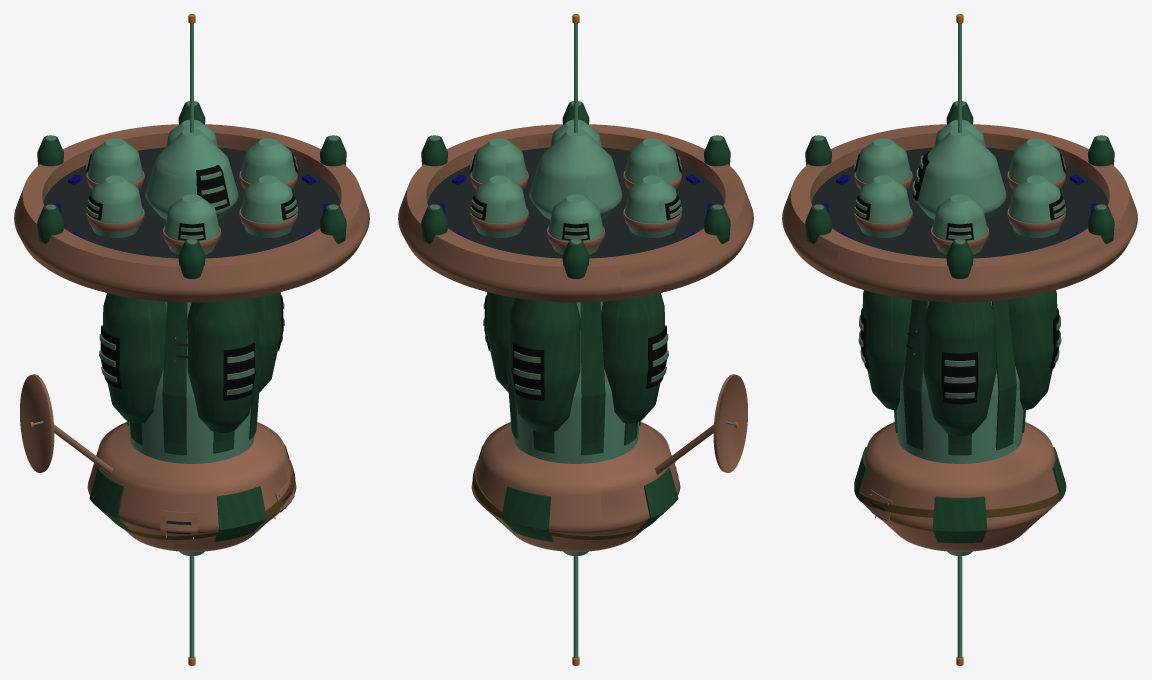
3 renders of one model, left to right at view 1: azimuth 30°, elevation 25°; view 2: azimuth 150°, elevation 25°; view 3: azimuth 270°, elevation 25°, orthographic.
Visible parts, largest first — view 1: Geostationary copper face rim, Geostationary copper aft shell, Geostationary dark backing face, AR5C broad neck equipment shell 3, AR5C broad neck equipment shell 2, Geostationary green central boss, Geostationary green axial body, AR5C broad axial armour field 5, Geostationary side dish, Geostationary front module 3, Geostationary front module 5, AR5C broad aft green field 3 (+19 smaller); view 2: Geostationary copper face rim, Geostationary copper aft shell, Geostationary dark backing face, AR5C broad neck equipment shell 1, AR5C broad neck equipment shell 2, Geostationary green central boss, Geostationary green axial body, AR5C broad axial armour field 3, Geostationary side dish, Geostationary front module 1, Geostationary front module 3, AR5C broad aft green field 1 (+17 smaller); view 3: Geostationary copper face rim, Geostationary copper aft shell, Geostationary dark backing face, AR5C broad neck equipment shell 0, Geostationary green central boss, AR5C broad neck equipment shell 1, AR5C broad neck equipment shell 3, Geostationary green axial body, AR5C broad axial armour field 1, AR5C broad axial armour field 7, AR5C broad aft green field 0, Geostationary front module 5 (+14 smaller).
Boxes of the visible parts, <box> form: Geostationary copper face rim: <box>14,124,369,302</box>; Geostationary copper aft shell: <box>87,422,296,551</box>; Geostationary dark backing face: <box>43,147,340,258</box>; AR5C broad neck equipment shell 3: <box>187,298,259,432</box>; AR5C broad neck equipment shell 2: <box>103,293,166,423</box>; Geostationary green central boss: <box>145,128,238,219</box>; Geostationary green axial body: <box>128,301,254,556</box>; AR5C broad axial armour field 5: <box>162,301,187,455</box>; Geostationary side dish: <box>20,374,54,472</box>; Geostationary front module 3: <box>89,175,143,237</box>; Geostationary front module 5: <box>240,175,294,237</box>; AR5C broad aft green field 3: <box>214,486,266,541</box>; Geostationary copper face rim: <box>398,124,753,302</box>; Geostationary copper aft shell: <box>471,422,680,551</box>; Geostationary dark backing face: <box>427,147,724,258</box>; AR5C broad neck equipment shell 1: <box>508,298,580,432</box>; AR5C broad neck equipment shell 2: <box>601,293,664,423</box>; Geostationary green central boss: <box>529,128,622,219</box>; Geostationary green axial body: <box>513,301,639,556</box>; AR5C broad axial armour field 3: <box>580,301,605,455</box>; Geostationary side dish: <box>713,374,747,472</box>; Geostationary front module 1: <box>473,175,527,237</box>; Geostationary front module 3: <box>624,175,678,237</box>; AR5C broad aft green field 1: <box>501,486,553,541</box>; Geostationary copper face rim: <box>782,124,1137,302</box>; Geostationary copper aft shell: <box>861,422,1058,551</box>; Geostationary dark backing face: <box>811,147,1108,258</box>; AR5C broad neck equipment shell 0: <box>923,301,996,436</box>; Geostationary green central boss: <box>914,128,1006,219</box>; AR5C broad neck equipment shell 1: <box>1008,290,1057,410</box>; AR5C broad neck equipment shell 3: <box>862,290,911,410</box>; Geostationary green axial body: <box>896,301,1023,556</box>; AR5C broad axial armour field 1: <box>992,299,1016,450</box>; AR5C broad axial armour field 7: <box>903,299,927,450</box>; AR5C broad aft green field 0: <box>932,496,987,543</box>; Geostationary front module 5: <box>857,175,911,237</box>.
Size of the model in its own units: 2.97 by 5.84 by 2.9.
Materials: 10 (7 with a texture image).
